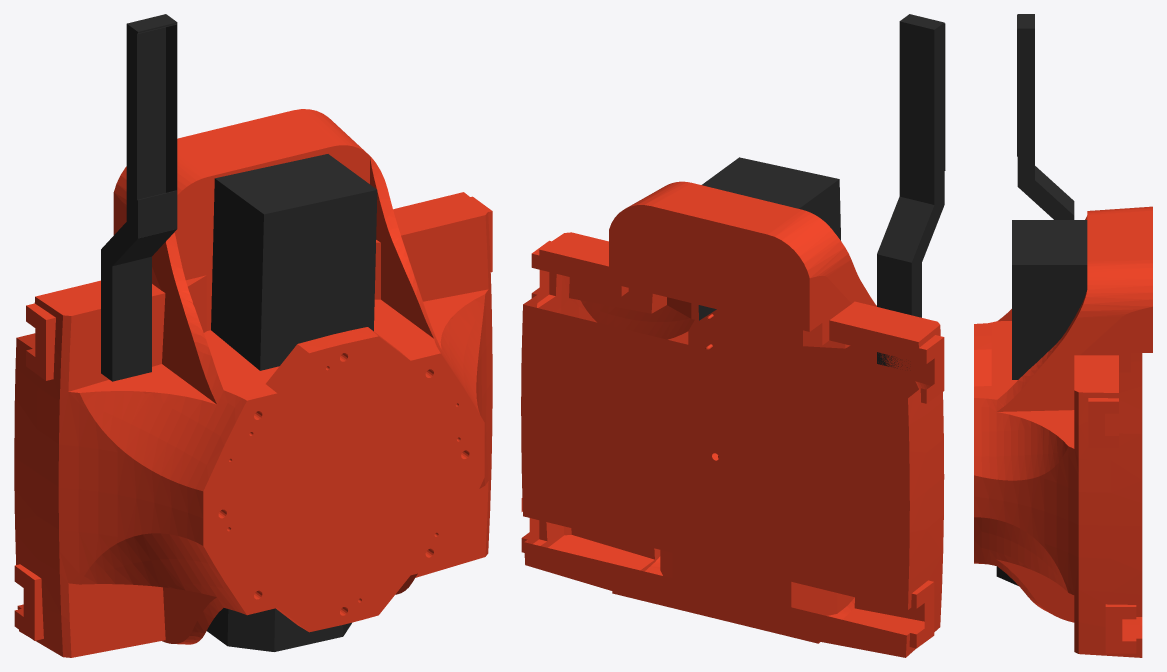
Rendered from linearmove.obj.
The picture shows the model from 3 angles, left to right: view 1: azimuth 30°, elevation 25°; view 2: azimuth 150°, elevation 25°; view 3: azimuth 270°, elevation 25°; orthographic projection. The views are drawn at different scales.
Bounding box in the file's own units: 0.4528 × 0.6409 × 0.205.
